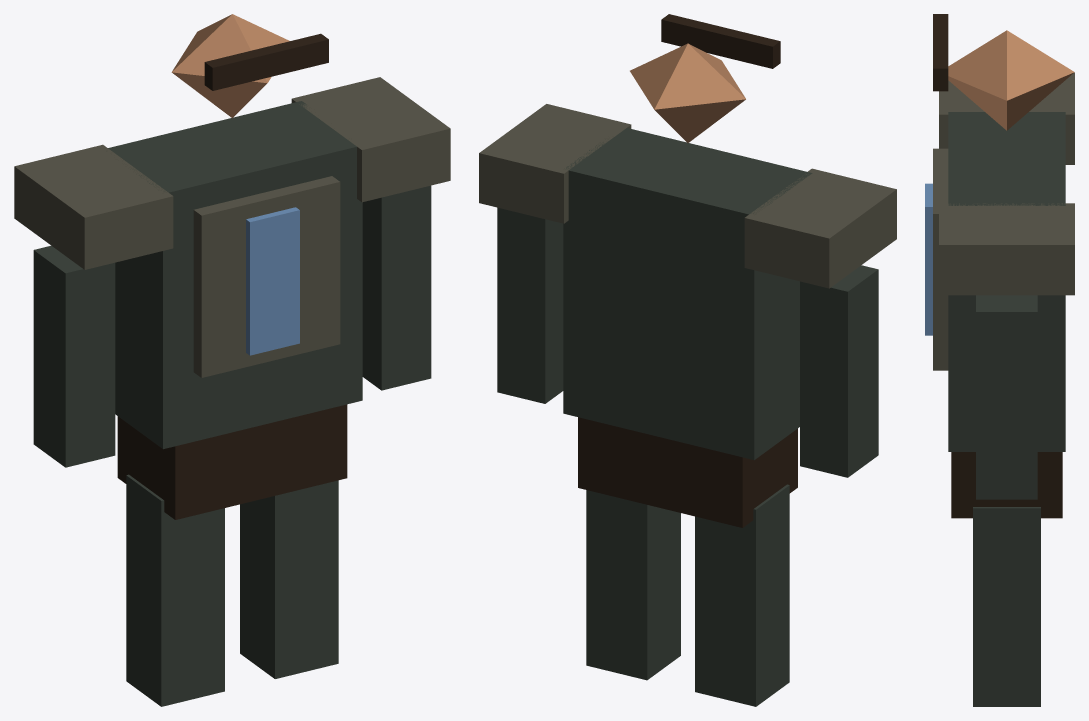
File: PrototypePlayer.obj
3 renders of one model, left to right at view 1: azimuth 30°, elevation 25°; view 2: azimuth 150°, elevation 25°; view 3: azimuth 270°, elevation 25°, orthographic. The views are drawn at different scales.
Visible parts, largest first — view 1: Limbs, Torso, Shoulders, ChestPlate, Hips, AccentStrip, Head, BrowGuard; view 2: Torso, Limbs, Shoulders, Hips, Head, BrowGuard; view 3: Limbs, Torso, Shoulders, Head, Hips, ChestPlate, BrowGuard, AccentStrip.
Boxes of the visible parts, x1,y1,x2,y2 form: Limbs: (33,185,431,706); Torso: (106,101,362,449); Shoulders: (14,77,450,269); ChestPlate: (193,176,340,377); Hips: (117,404,347,519); AccentStrip: (246,207,299,355); Head: (171,14,289,118); BrowGuard: (204,33,328,90); Torso: (563,128,812,460); Limbs: (497,207,878,706); Shoulders: (479,104,896,288); Hips: (578,417,797,527); Head: (630,43,745,142); BrowGuard: (661,14,780,68); Limbs: (973,295,1040,706); Torso: (948,112,1065,451); Shoulders: (939,72,1074,295); Head: (948,30,1074,130); Hips: (951,452,1062,518); ChestPlate: (933,148,948,370); BrowGuard: (933,14,948,91); AccentStrip: (925,183,932,335).
Size of the model in its own units: 1.32 by 2.27 by 0.485.
